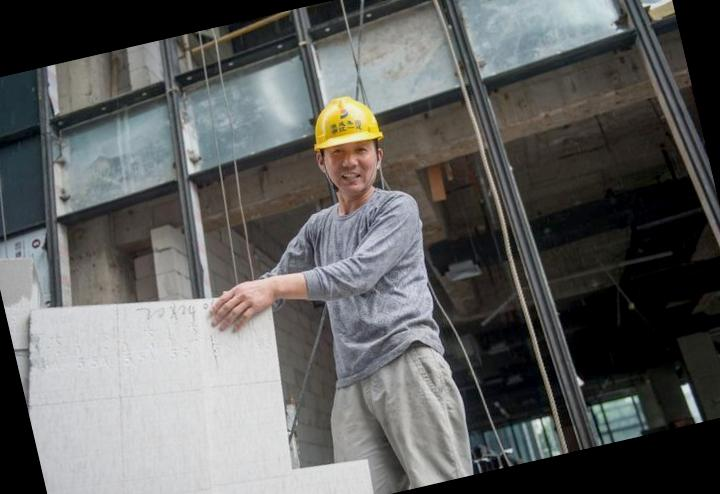helmet: (302, 88, 384, 156)
no_vest: (295, 176, 456, 401)
person: (229, 79, 488, 494)
